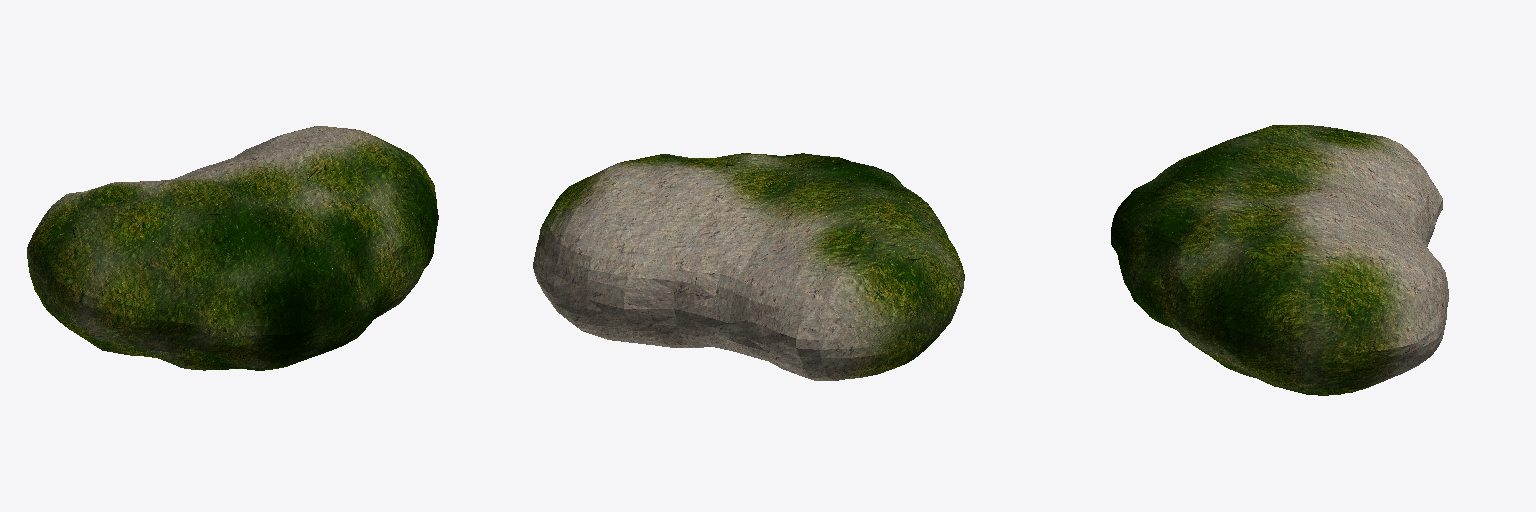
3 renders of one model, left to right at view 1: azimuth 30°, elevation 25°; view 2: azimuth 150°, elevation 25°; view 3: azimuth 270°, elevation 25°, orthographic.
Visible parts, largest first — view 1: rock4.001; view 2: rock4.001; view 3: rock4.001.
Part boxes in pixels (x1,y1,x2,y2): rock4.001: (27, 126, 438, 370); rock4.001: (533, 153, 964, 380); rock4.001: (1111, 125, 1448, 395).
Size of the model in its own units: 3.46 by 1.39 by 2.68.
1 materials, 1 textured.